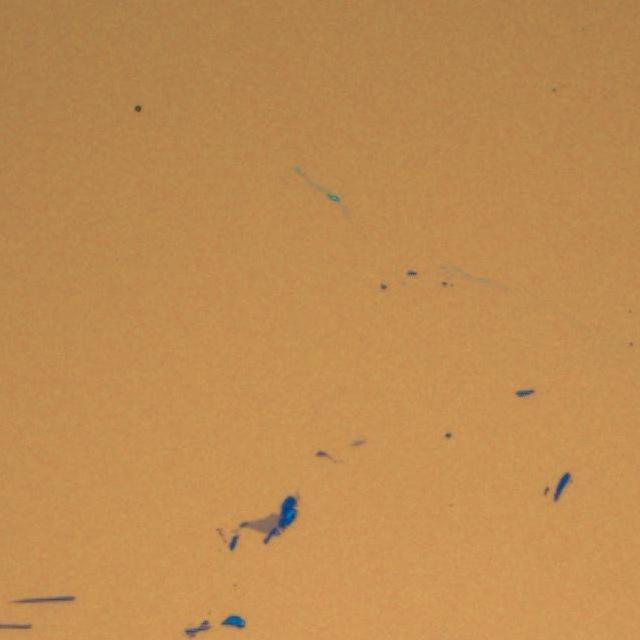monolayer-eWW4: (248, 510, 280, 533)
